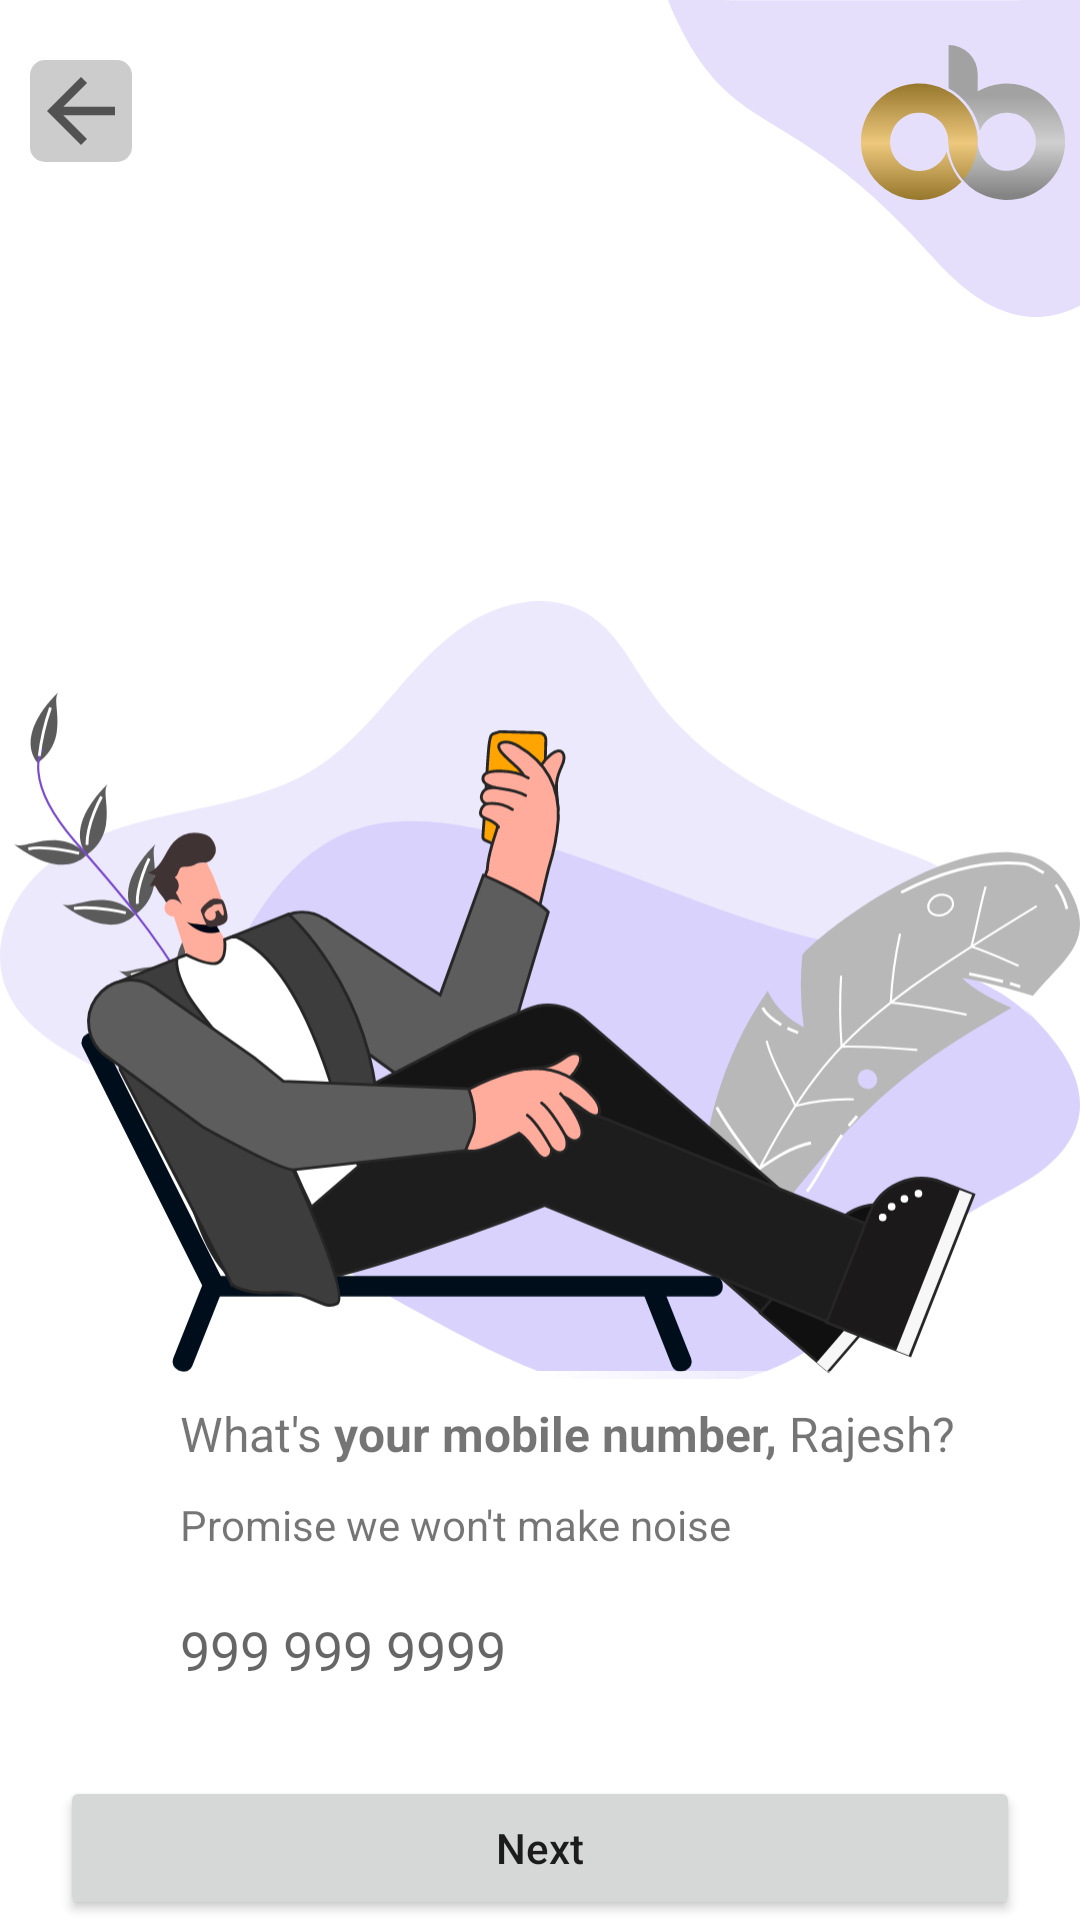

Icon bounding boxes for this 1080×1920 phone screenshot, format (x1, y1, x2, y2):
back: (30, 60, 132, 162)
